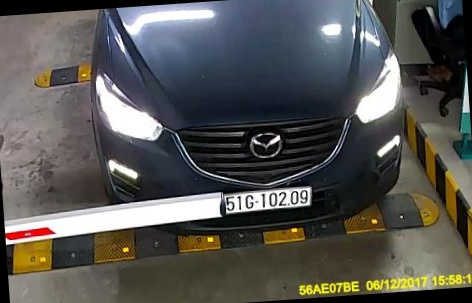plate: (219, 188, 317, 218)
